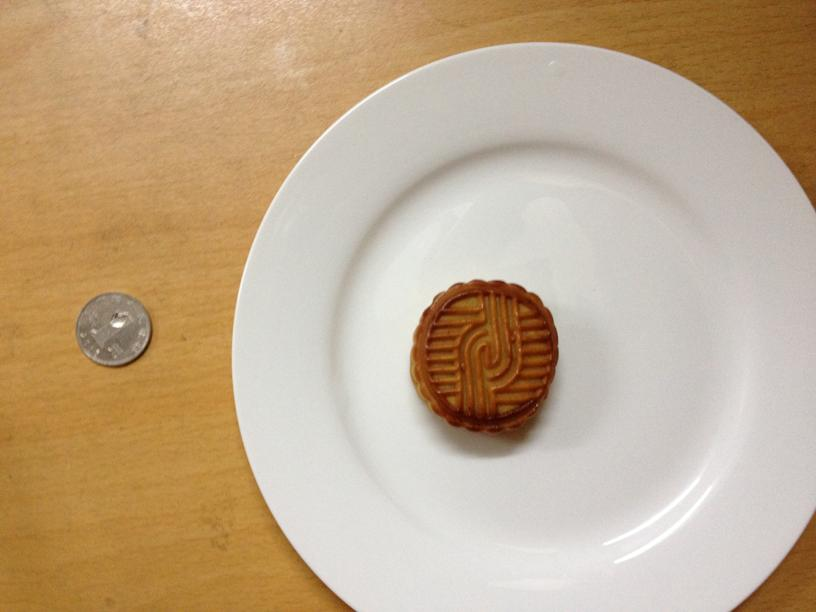coin: (71, 292, 152, 367)
mooncake: (408, 281, 560, 431)
